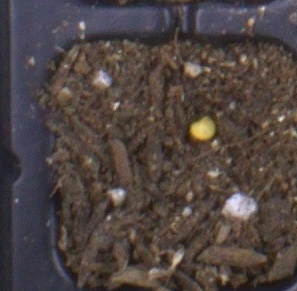chilli seed: (188, 114, 216, 141)
